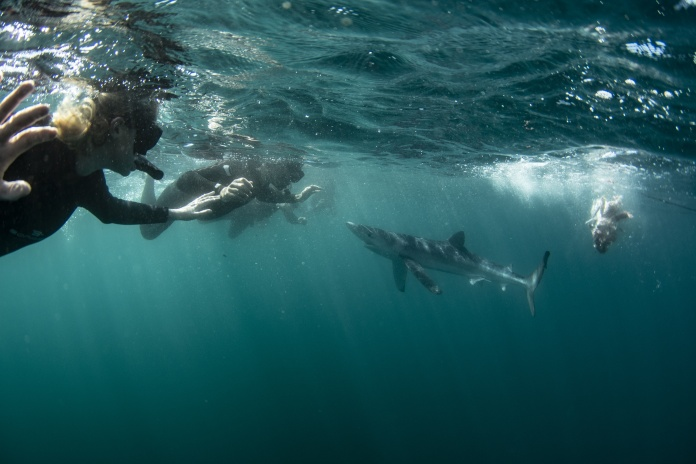Azul: (345, 216, 568, 320)
